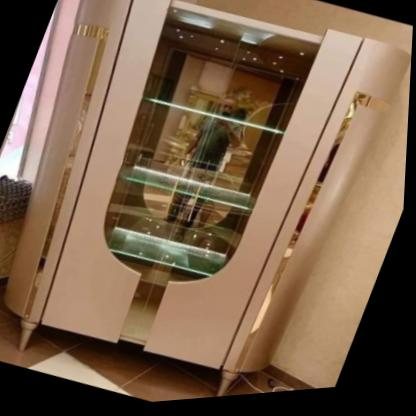Cupboard: (7, 0, 412, 401)
